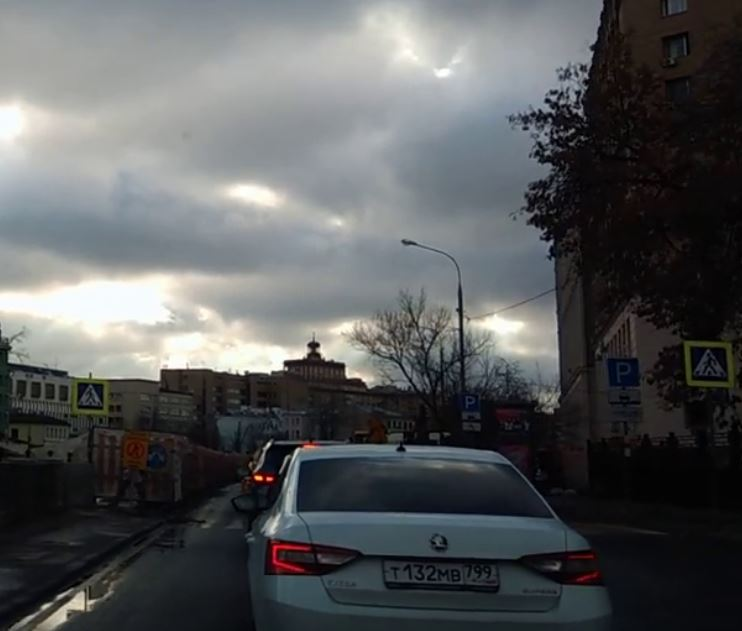Yaya Gecidi: (689, 344, 726, 379), (79, 382, 107, 411)
